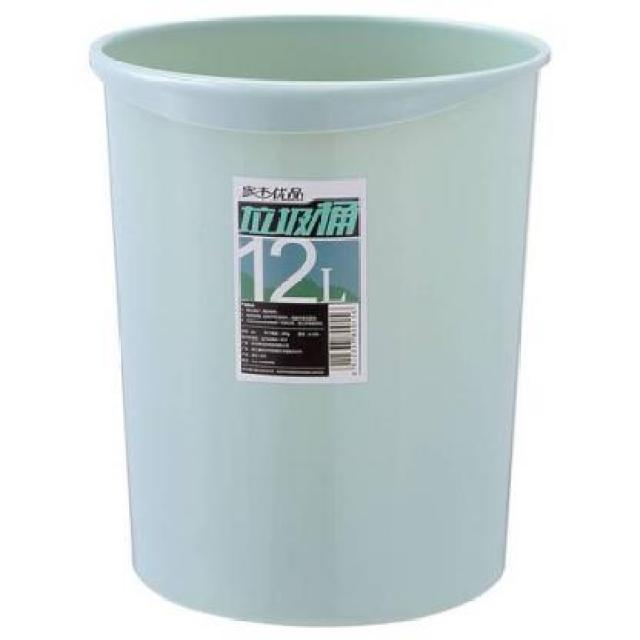dustbin: (84, 8, 554, 630)
